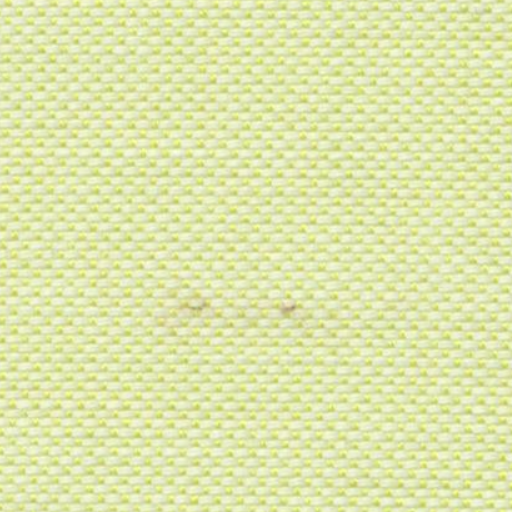WuZi: (162, 278, 320, 335)
